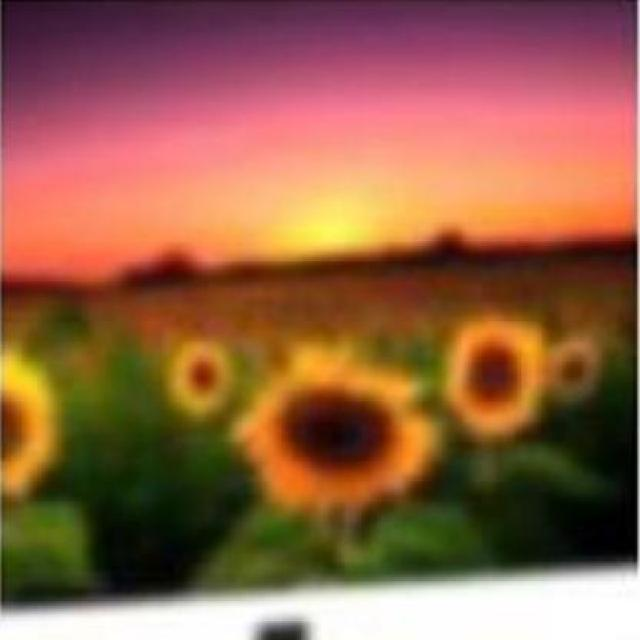sunflower: (228, 350, 439, 524), (446, 309, 548, 441)
